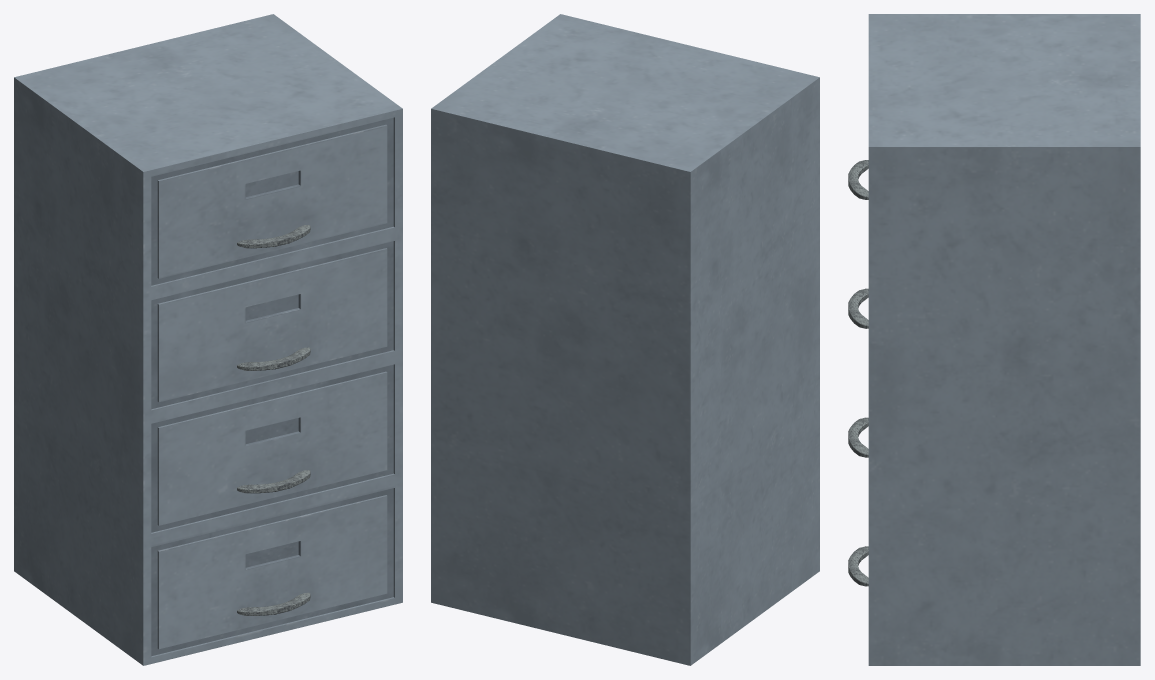
File: Arquivos.fbx
3 renders of one model, left to right at view 1: azimuth 30°, elevation 25°; view 2: azimuth 150°, elevation 25°; view 3: azimuth 270°, elevation 25°, orthographic. The views are drawn at different scales.
Visible parts, largest first — view 1: Arquivos; view 2: Arquivos; view 3: Arquivos.
Boxes of the visible parts, x1,y1,x2,y2 form: Arquivos: [14, 14, 402, 665]; Arquivos: [431, 14, 819, 665]; Arquivos: [848, 14, 1140, 665].
Bounding box in the file's own units: 78.01 × 142 × 72.46.
